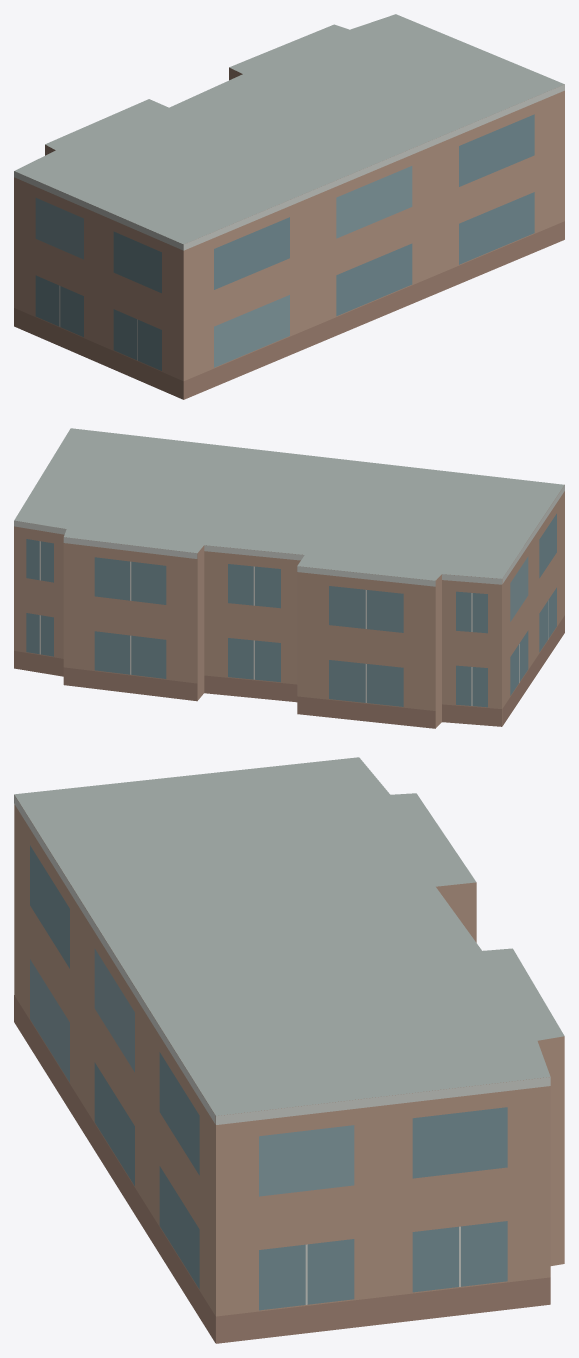
File: survey-upis-32651304.glb
3 renders of one model, top to bottom at view 1: azimuth 30°, elevation 25°; view 2: azimuth 150°, elevation 25°; view 3: azimuth 270°, elevation 25°, orthographic. The views are drawn at different scales.
Parts seen in each view (by area): view 1: survey-upis-32651304.tmp; view 2: survey-upis-32651304.tmp; view 3: survey-upis-32651304.tmp.
Boxes of the visible parts, x1,y1,x2,y2 form: survey-upis-32651304.tmp: (14, 14, 564, 399); survey-upis-32651304.tmp: (14, 428, 564, 728); survey-upis-32651304.tmp: (14, 757, 564, 1343).
Bounding box in the file's own units: 20.63 × 6.1 × 13.38.
